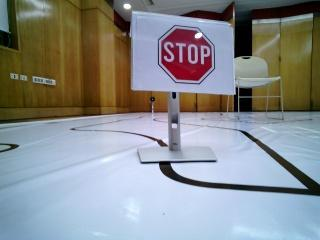stop: (140, 20, 229, 88)
